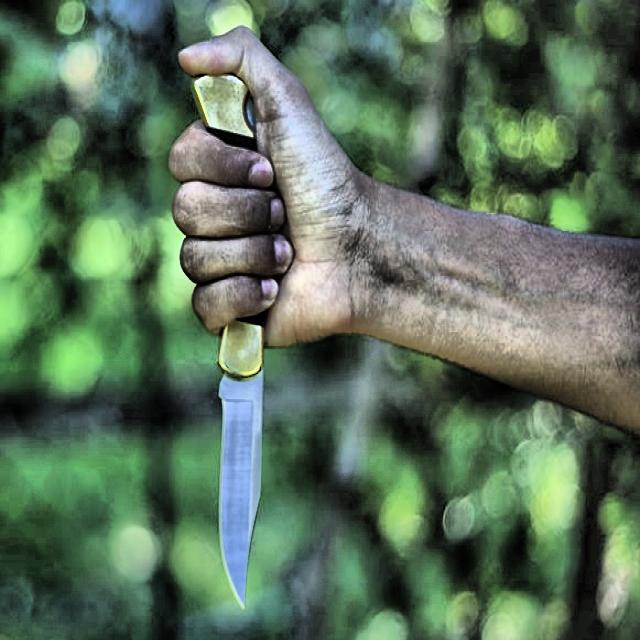knife: (194, 75, 262, 612)
